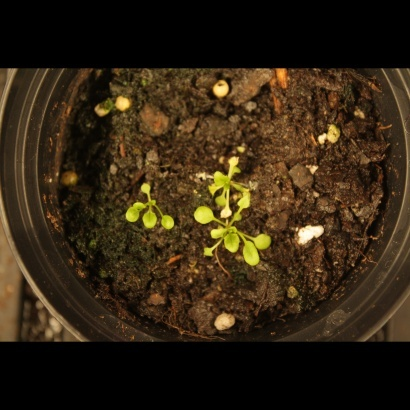leaf: (241, 239, 265, 268), (192, 206, 219, 229), (220, 229, 243, 256), (136, 173, 159, 196), (160, 211, 183, 234), (138, 207, 161, 230), (121, 204, 144, 227), (252, 231, 275, 254), (201, 225, 224, 248), (196, 244, 219, 267), (235, 193, 258, 216), (208, 164, 231, 187), (210, 186, 233, 209), (216, 203, 239, 226)
